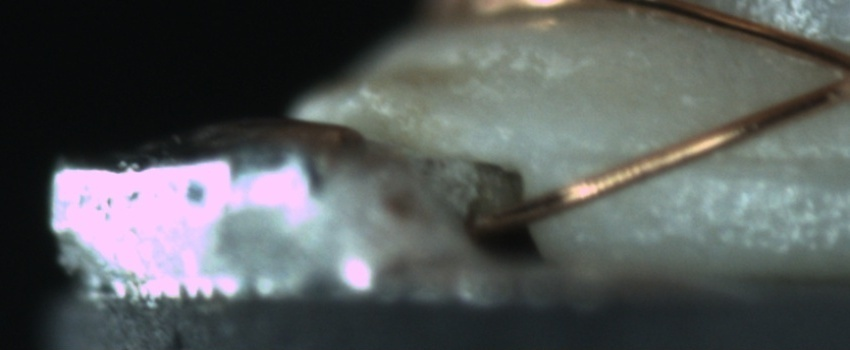CL: (807, 37, 850, 108)
DL: (571, 123, 848, 193)
